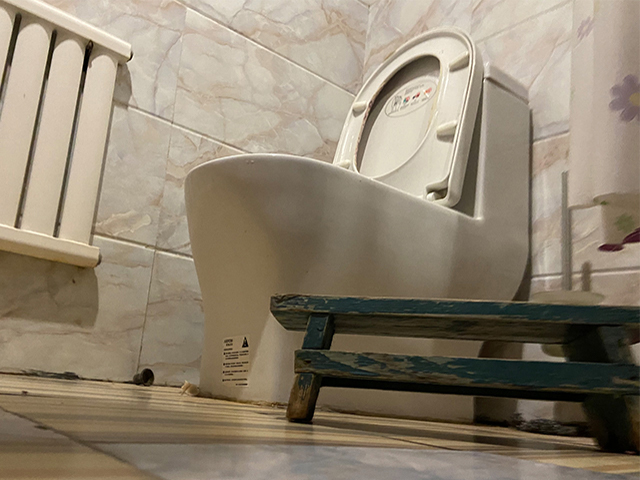closestool: (182, 26, 533, 425)
stool: (269, 290, 640, 457)
